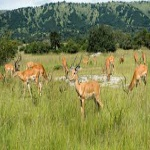Animal: (70, 67, 105, 117), (14, 69, 45, 100), (127, 60, 146, 95), (27, 60, 53, 80), (59, 55, 71, 81), (106, 55, 117, 79)
Forest: (9, 8, 139, 52)
Uncultivated: (8, 47, 148, 147)
